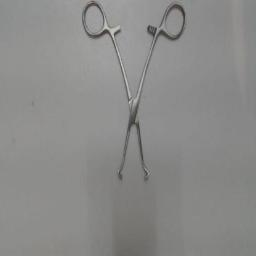Babcock Tissue Forceps: (79, 1, 189, 185)
